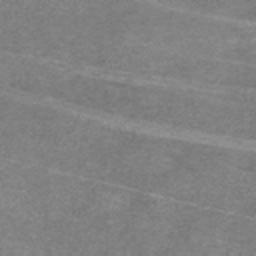Finishing roll printing: (0, 88, 256, 152), (0, 51, 256, 96), (44, 168, 256, 221), (133, 0, 256, 27)
